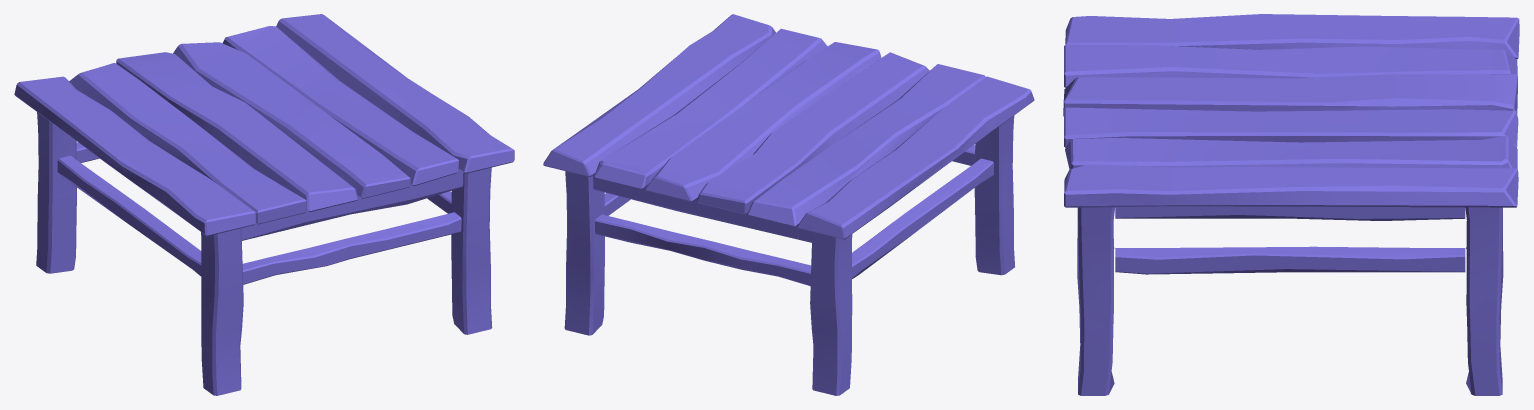
File: TafelLevel1En2.fbx
3 renders of one model, left to right at view 1: azimuth 30°, elevation 25°; view 2: azimuth 150°, elevation 25°; view 3: azimuth 270°, elevation 25°, orthographic. The views are drawn at different scales.
Visible parts, largest first — view 1: Tafel; view 2: Tafel; view 3: Tafel.
Boxes of the visible parts, <box> form: Tafel: <box>14,14,514,395</box>; Tafel: <box>543,14,1034,395</box>; Tafel: <box>1063,14,1519,395</box>.
Bounding box in the file's own units: 117 × 65.19 × 127.
